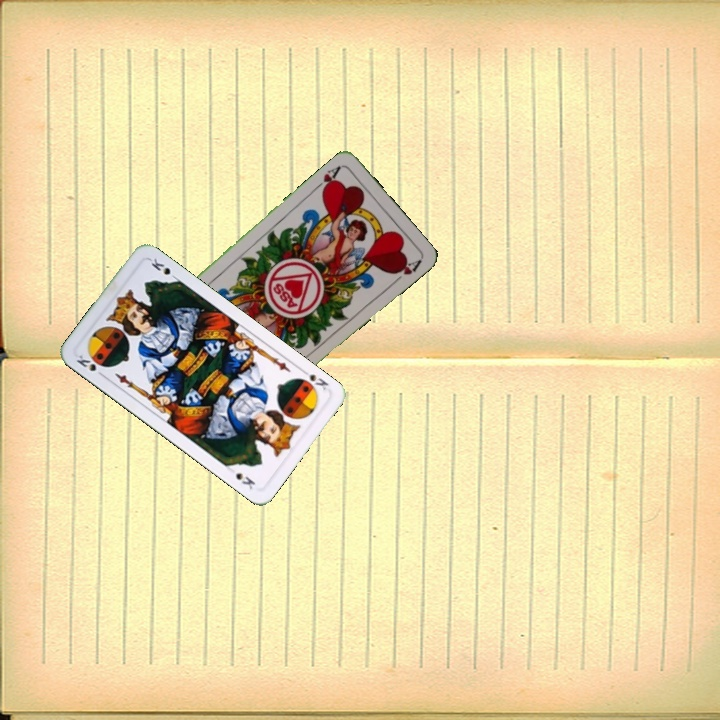HA: (310, 162, 343, 196)
SK: (72, 351, 108, 380), (297, 365, 331, 393)
